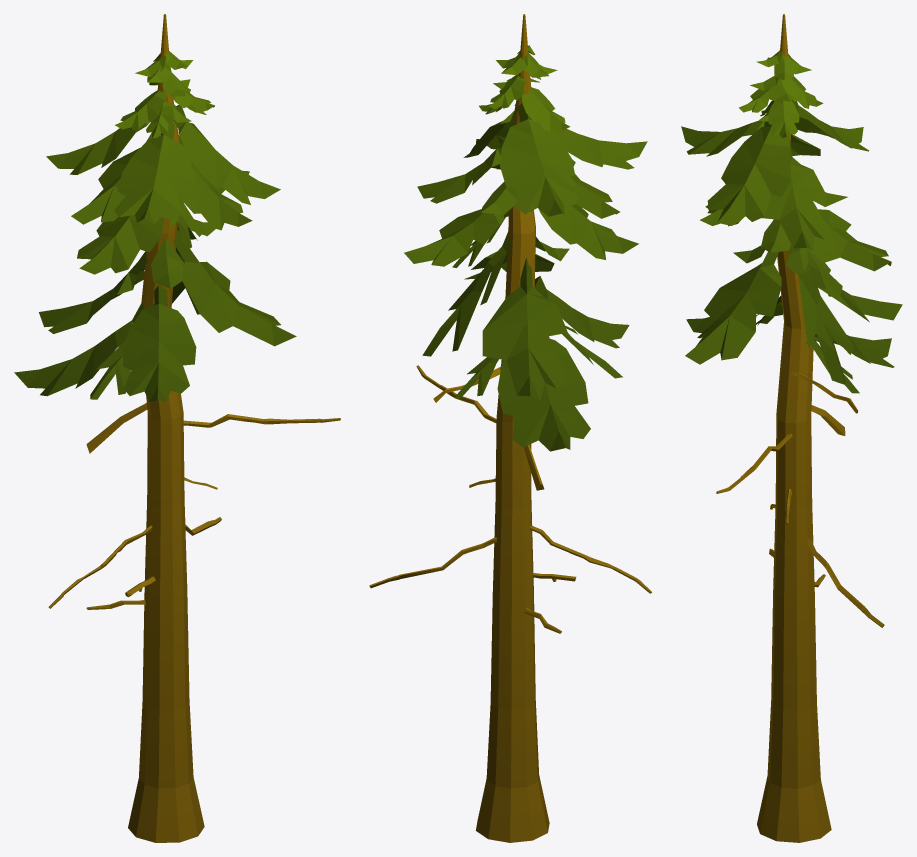
File: source.glb
3 renders of one model, left to right at view 1: azimuth 30°, elevation 25°; view 2: azimuth 150°, elevation 25°; view 3: azimuth 270°, elevation 25°, orthographic.
Parts seen in each view (by area): view 1: coniferous_trees_16; view 2: coniferous_trees_16; view 3: coniferous_trees_16.
Boxes of the visible parts, box(x1,y1,x2,y2) form: coniferous_trees_16: box(14, 14, 340, 842); coniferous_trees_16: box(369, 14, 652, 842); coniferous_trees_16: box(681, 14, 902, 842).
Bounding box in the file's own units: 2.93 × 8.64 × 2.14.
